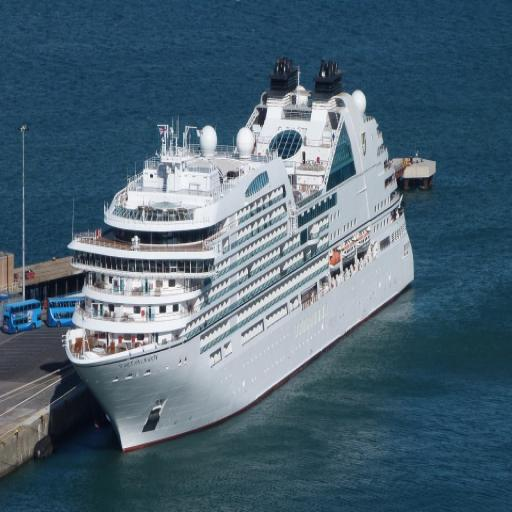cruises: (59, 55, 419, 462)
